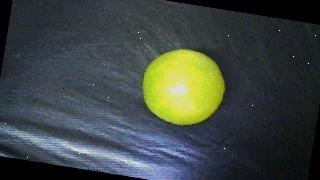LOCAL: (137, 43, 230, 130)
